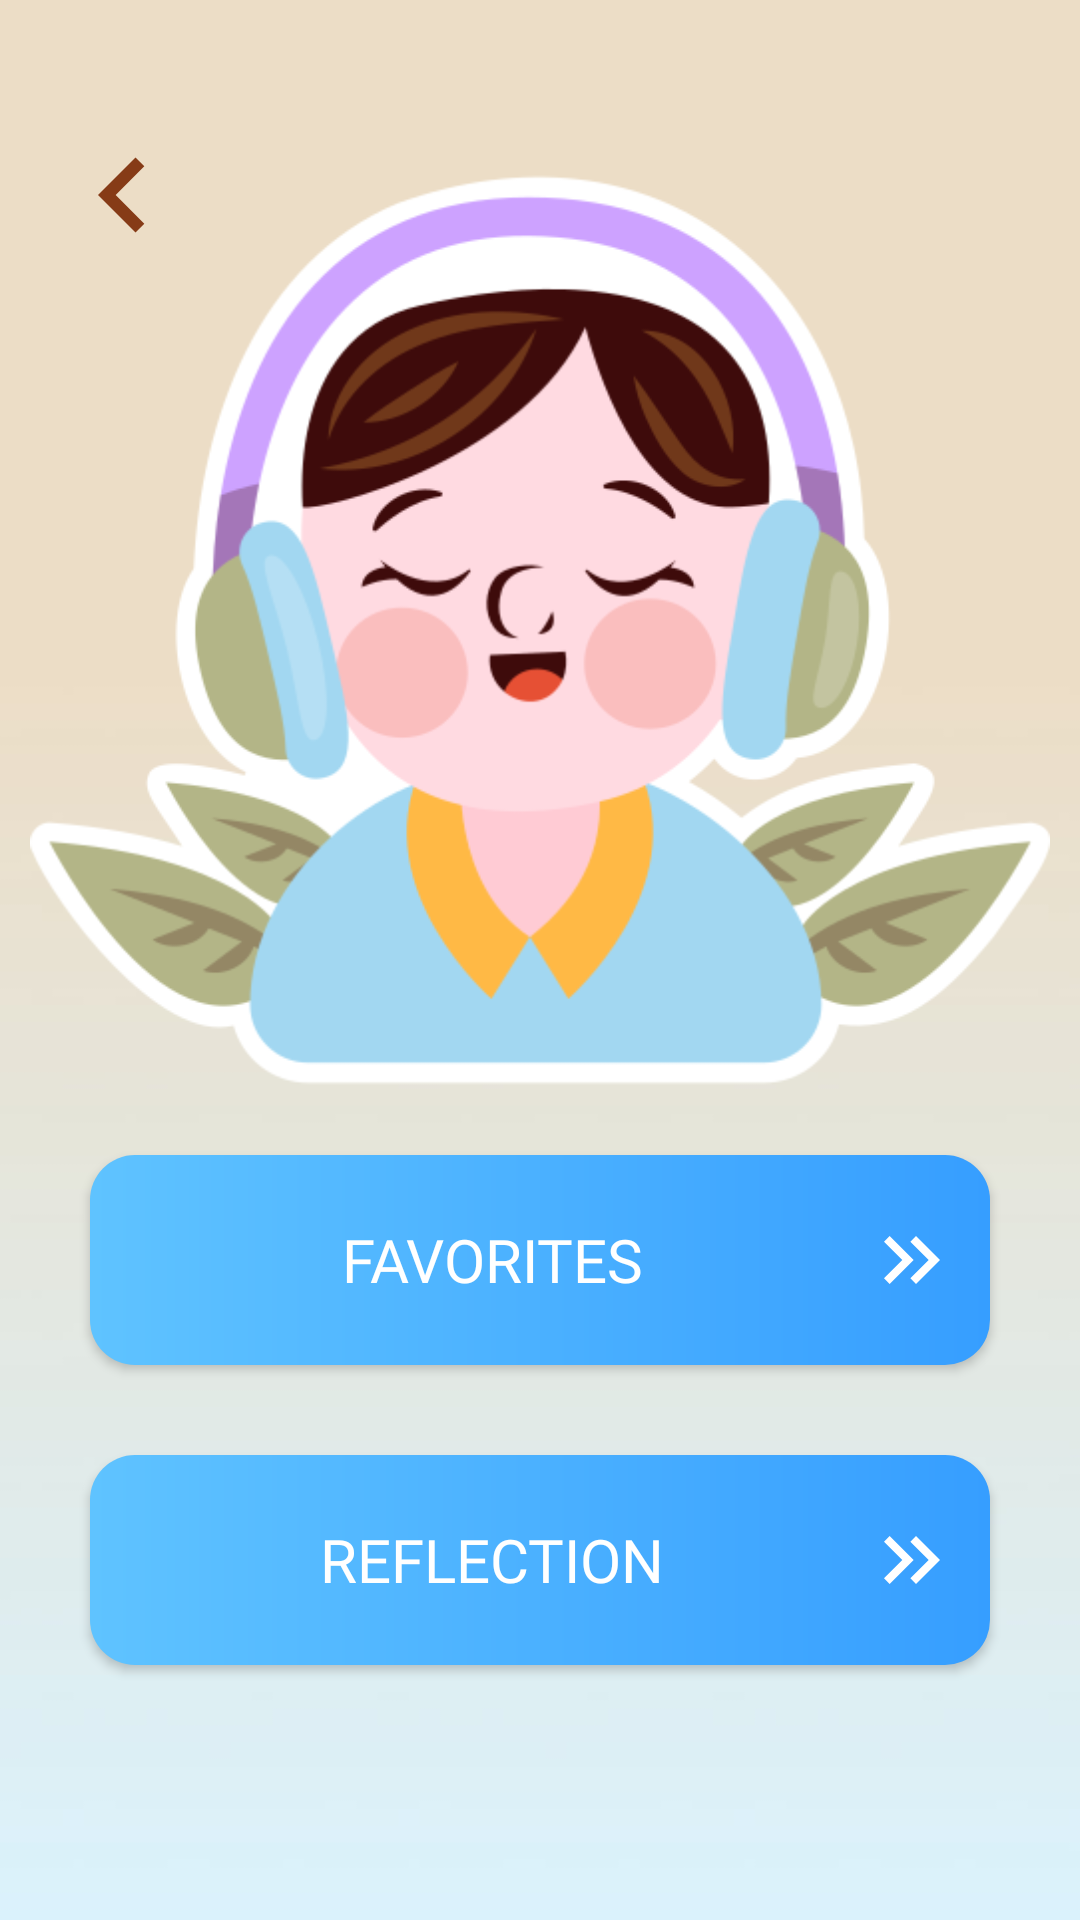

Screen size 1080 x 1920. Icon name, then its center in pixels as [x,y]:
blackarrow back: [121,195]
